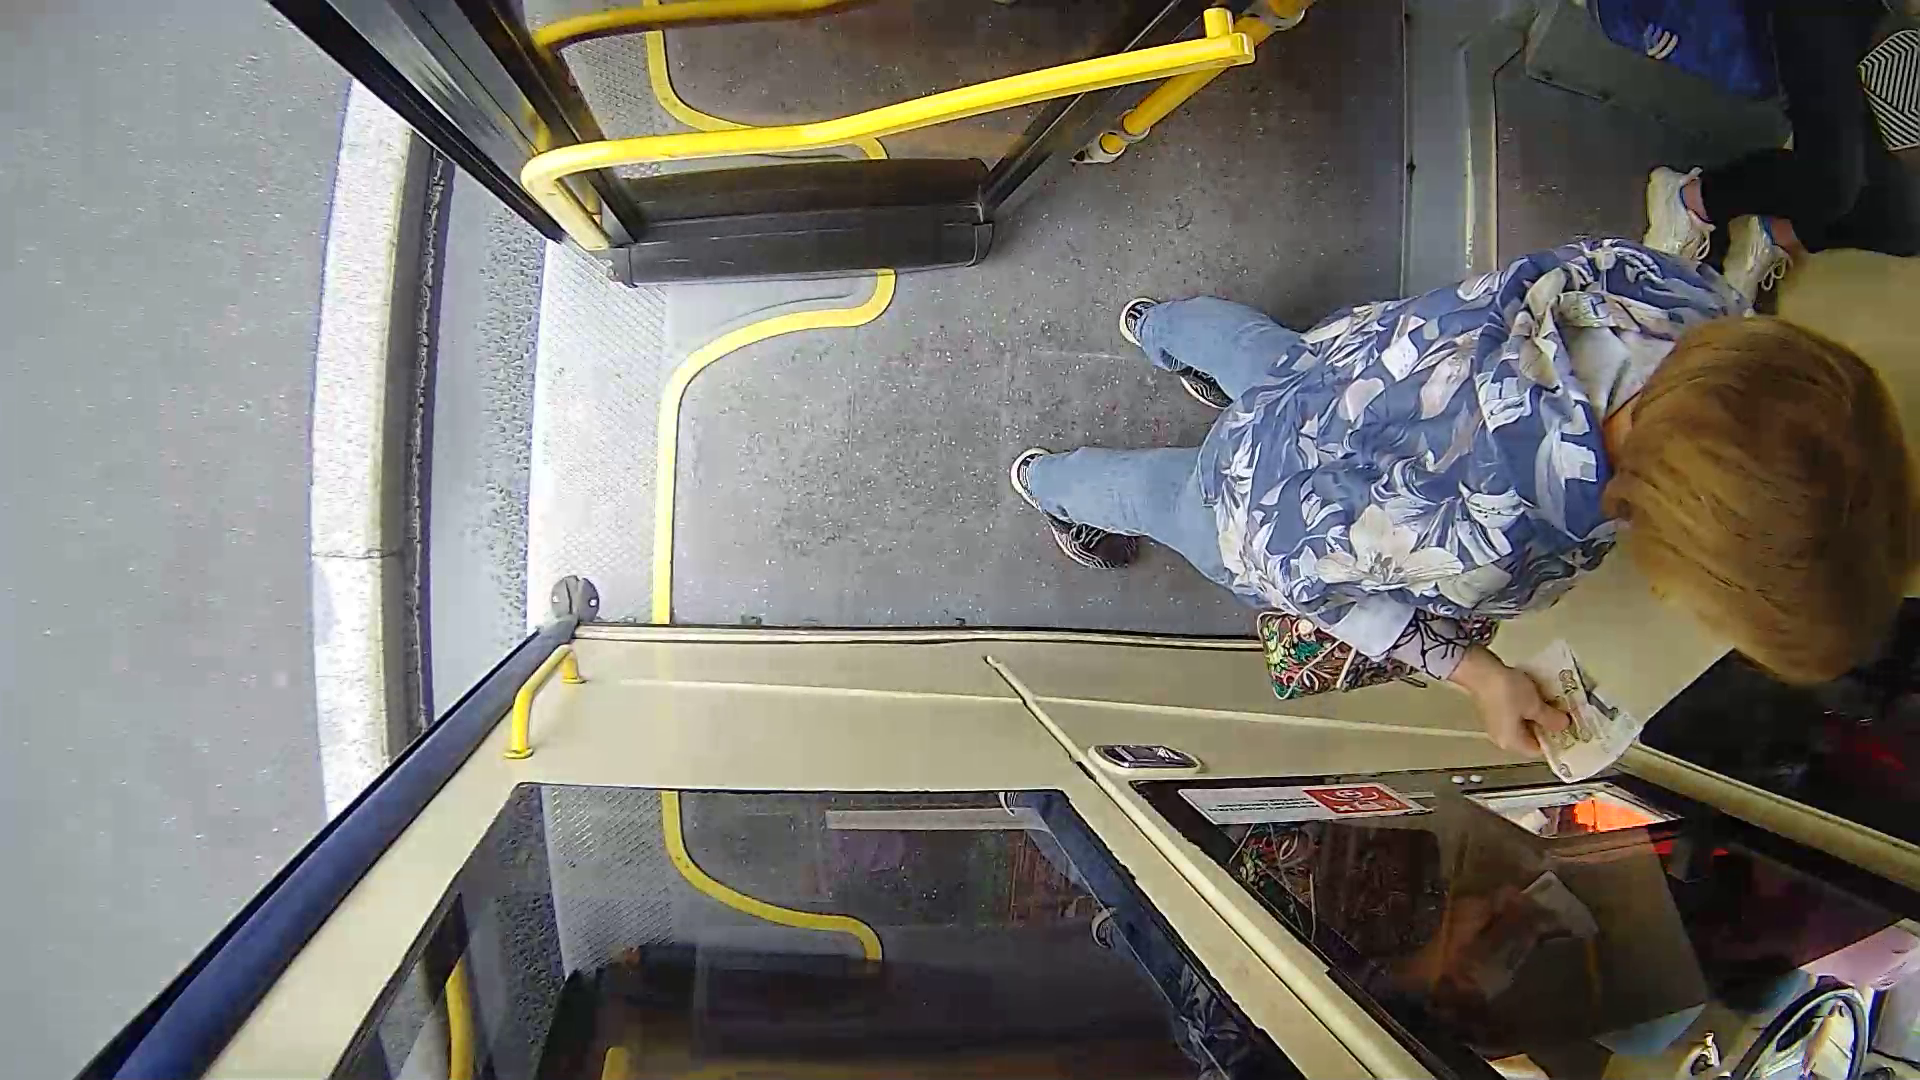person: (1020, 200, 1901, 844)
